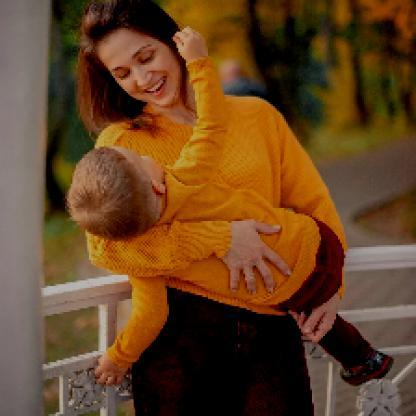child: (68, 27, 397, 388)
